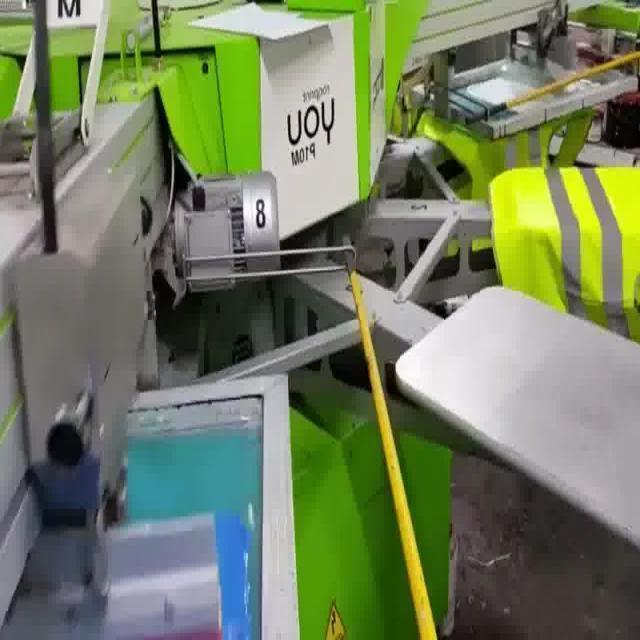safety_vest: (486, 164, 640, 340)
